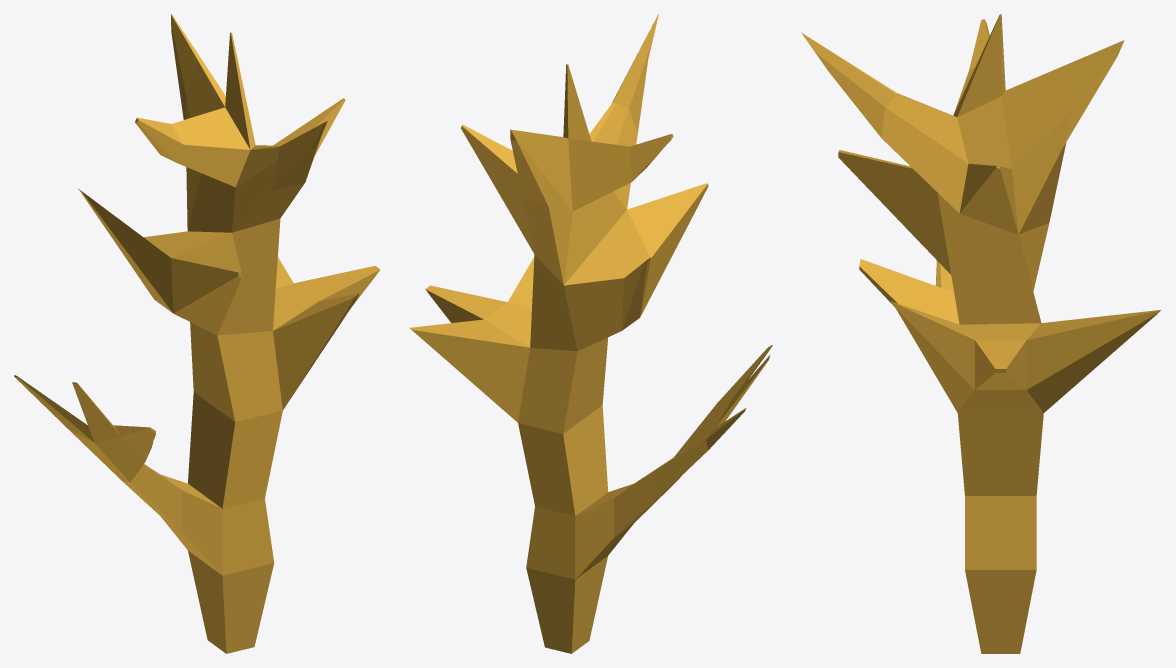
Rendered from mercan1.fbx.
3 views of the same model, side by side, from view 1: azimuth 30°, elevation 25°; view 2: azimuth 150°, elevation 25°; view 3: azimuth 270°, elevation 25° (orthographic). The views are drawn at different scales.
Visible parts, largest first — view 1: mercan1; view 2: mercan1; view 3: mercan1.
Part boxes in pixels (x1=…): mercan1: x1=14, y1=14, x2=380, y2=653; mercan1: x1=409, y1=14, x2=772, y2=653; mercan1: x1=801, y1=14, x2=1161, y2=653.
Size of the model in its own units: 43.16 by 72.2 by 37.33.
